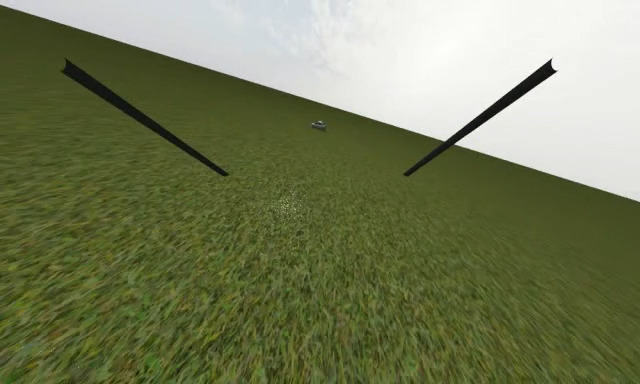Car: (310, 119, 328, 131)
